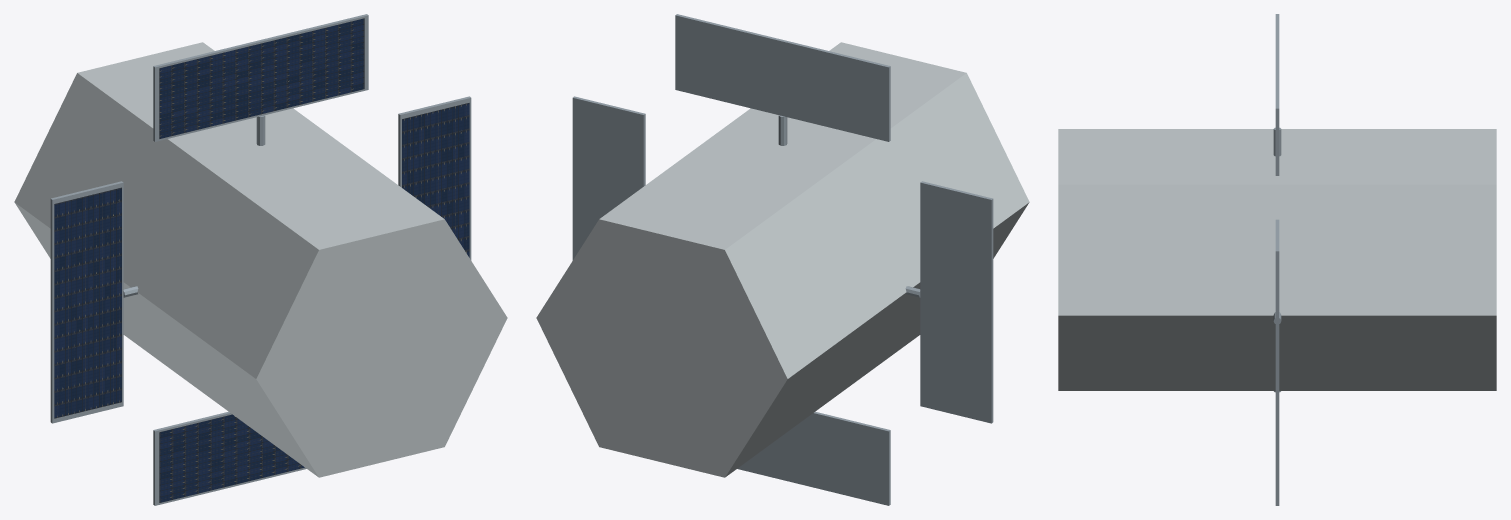
The model's file is ref-mbzsat-62626.glb.
3 renders of one model, left to right at view 1: azimuth 30°, elevation 25°; view 2: azimuth 150°, elevation 25°; view 3: azimuth 270°, elevation 25°, orthographic. The views are drawn at different scales.
Visible parts, largest first — view 1: Spacecraft body, Photovoltaic laminates (×4), Array frame (×4); view 2: Spacecraft body, Array frame (×4); view 3: Spacecraft body, Array frame (×2).
Part boxes in pixels (x1,y1,x2,y2): Spacecraft body: (14,42,507,477); Photovoltaic laminates (×4): (54,18,469,502); Array frame (×4): (50,14,471,505); Spacecraft body: (536,42,1029,477); Array frame (×4): (572,14,993,505); Spacecraft body: (1058,129,1496,390); Array frame (×2): (1275,14,1279,453).
Bounding box in the file's own units: 5 × 5 × 5.
Materials: 3 (1 with a texture image).
